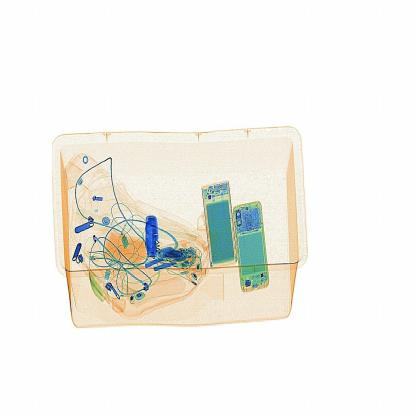scissors: (138, 207, 166, 262)
